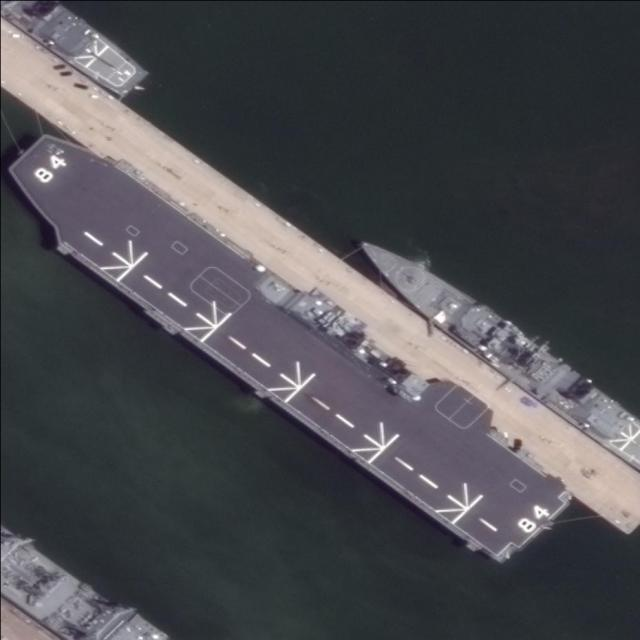Destroyer: (2, 120, 568, 570)
